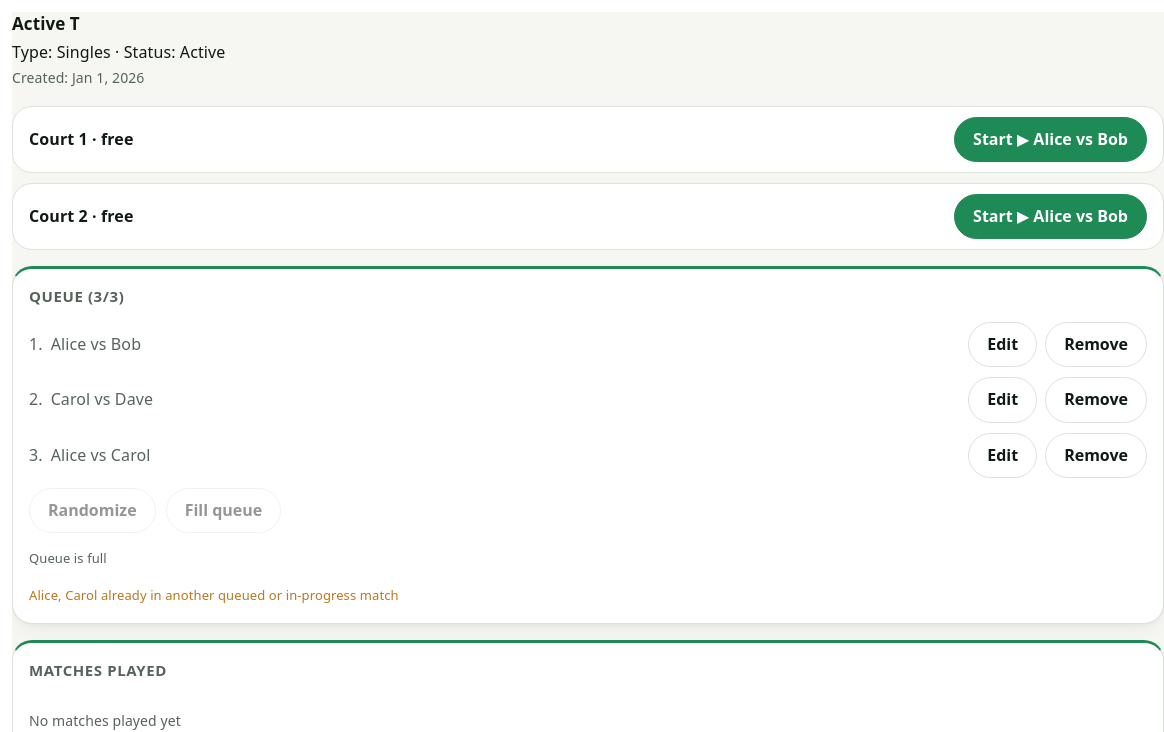
Test: TournamentDetail: Queue (Randomize / Fill queue / Remove) › Remove drops exactly the chosen queue entry
Expected: the heading "Queue (3/3)" is shown, [29,286,124,306]
Click the button with aria-label "Remove 2. Carol vs Dave": (1096, 400) [1045,377,1147,423]
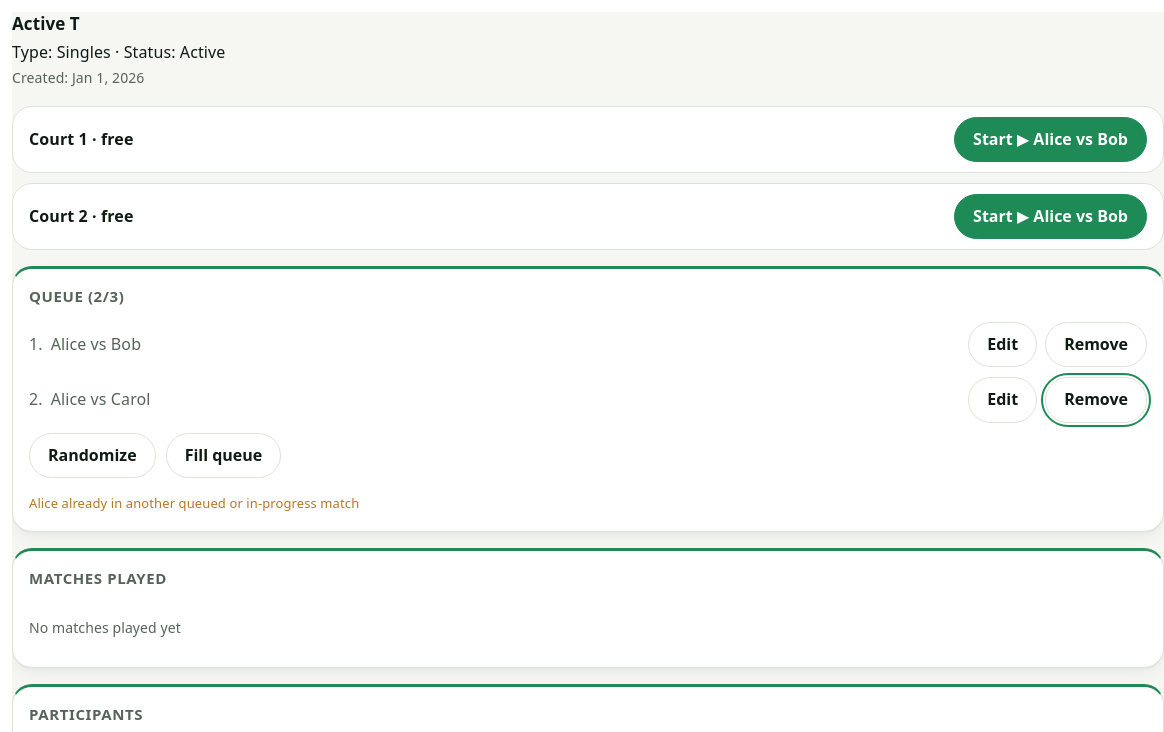
Now the heading "Queue (2/3)" is shown, box [29,286,124,306]
Now the text "Carol vs Dave" is gone
